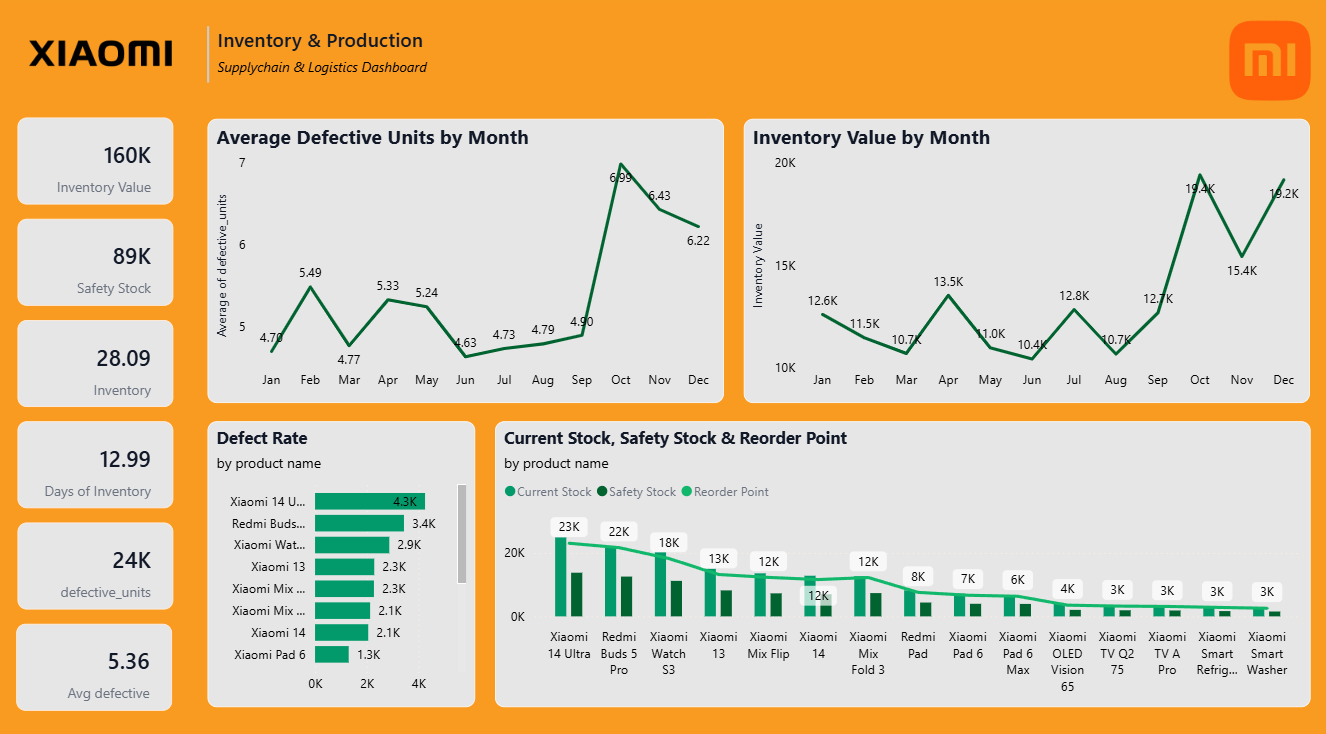

This screenshot's page, from the dashboard's own definition file:
{"tool":"powerbi","page":{"name":"Inventory","canvas":[1280,720],"ordinal":3},"visuals":[{"type":"shape","title":"Inventory & Production","box":[209.9,30.2,228,66.4],"z":0},{"type":"shape","box":[150.8,30.2,100.1,54.3],"z":1000},{"type":"cardVisual","fields":{"Data":["Measures_Table.Safety Stock"]},"box":[17.4,216.1,150,84],"z":2000},{"type":"cardVisual","fields":{"Data":["Measures_Table.Inventory Turnover"]},"box":[17.4,313.8,150,84],"z":3000},{"type":"cardVisual","fields":{"Data":["Measures_Table.Days of Inventory"]},"box":[17.4,411.5,150,84],"z":4000},{"type":"cardVisual","fields":{"Data":["Sum(fact_production.defective_units)"]},"box":[17.4,509.2,150,84],"z":5000},{"type":"cardVisual","fields":{"Data":["Measures_Table.Inventory Value"]},"box":[16.4,118.5,150,84],"z":6000},{"type":"cardVisual","fields":{"Data":["Avg(fact_production.defective_units)"]},"box":[16.2,606.8,150,84],"z":7000},{"type":"barChart","title":"Defect Rate","fields":{"Category":["dim_product.product_name"],"Y":["Measures_Table.Defect Rate"]},"box":[200.4,411.8,258.7,275.7],"z":8000},{"type":"lineClusteredColumnComboChart","title":"Current Stock, Safety Stock & Reorder Point","fields":{"Category":["dim_product.product_name"],"Y":["Measures_Table.Inventory Value","Measures_Table.Safety Stock"],"Y2":["Measures_Table.Reorder Point"]},"box":[477.4,411.8,787.1,275.7],"z":9000},{"type":"lineChart","title":"Average Defective Units by Month ","fields":{"Category":["dim_date.Month Short"],"Y":["Avg(fact_production.defective_units)"]},"box":[200.4,119,498,274.5],"z":10000},{"type":"lineChart","title":"Inventory Value by Month","fields":{"Category":["dim_date.Month Short"],"Y":["Measures_Table.Inventory Value"]},"box":[717.9,119,546.6,274.5],"z":11000},{"type":"image","box":[1170.9,3.6,109.3,119],"z":12000},{"type":"image","box":[15.8,21.9,164,69.2],"z":13000}]}

Visuals, with their boxes in screenshot pixels (x1, y1, x2, y2), scaled from the page's 1280x720 canvas onto the 1326x734 screenshot:
"Inventory & Production" shape: 217/31/454/98
shape: 156/31/260/86
cardVisual - Measures_Table.Safety Stock: 18/220/173/306
cardVisual - Measures_Table.Inventory Turnover: 18/320/173/406
cardVisual - Measures_Table.Days of Inventory: 18/420/173/505
cardVisual - Sum(fact_production.defective_units): 18/519/173/605
cardVisual - Measures_Table.Inventory Value: 17/121/172/206
cardVisual - Avg(fact_production.defective_units): 17/619/172/704
"Defect Rate" barChart: 208/420/476/701
"Current Stock, Safety Stock & Reorder Point" lineClusteredColumnComboChart: 495/420/1310/701
"Average Defective Units by Month " lineChart: 208/121/723/401
"Inventory Value by Month" lineChart: 744/121/1310/401
image: 1213/4/1325/125
image: 16/22/186/93
